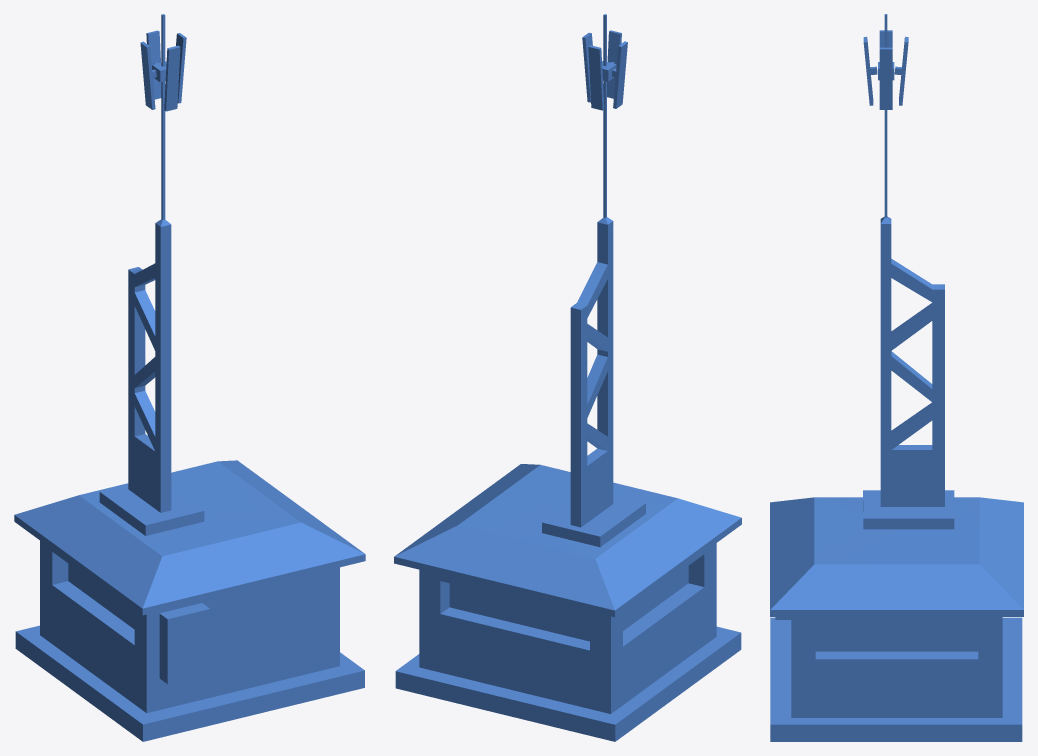
File: RadiokHouse.obj
3 renders of one model, left to right at view 1: azimuth 30°, elevation 25°; view 2: azimuth 150°, elevation 25°; view 3: azimuth 270°, elevation 25°, orthographic.
Visible parts, largest first — view 1: RadiokHouse; view 2: RadiokHouse; view 3: RadiokHouse.
Boxes of the visible parts, x1,y1,x2,y2 form: RadiokHouse: (14,14,365,741); RadiokHouse: (394,14,741,741); RadiokHouse: (770,14,1023,741).
Bounding box in the file's own units: 20.1 × 57.27 × 20.01.
